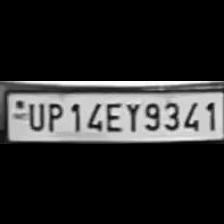1: (64, 98, 82, 132), (202, 98, 218, 130)
3: (160, 97, 180, 131)
4: (83, 99, 103, 131), (180, 98, 200, 130)
9: (140, 99, 162, 131)
E: (103, 98, 123, 132)
P: (44, 98, 64, 132)
U: (23, 98, 45, 130)
Y: (122, 98, 140, 132)
